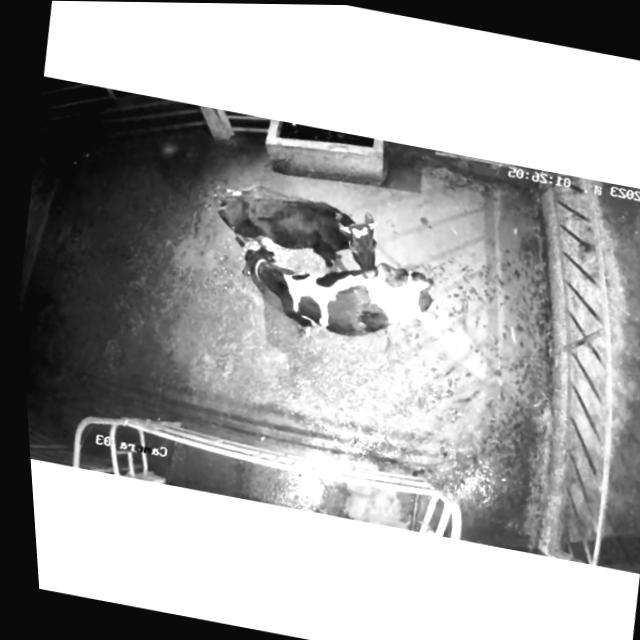propping: (324, 205, 400, 324)
stand: (210, 231, 449, 356)
